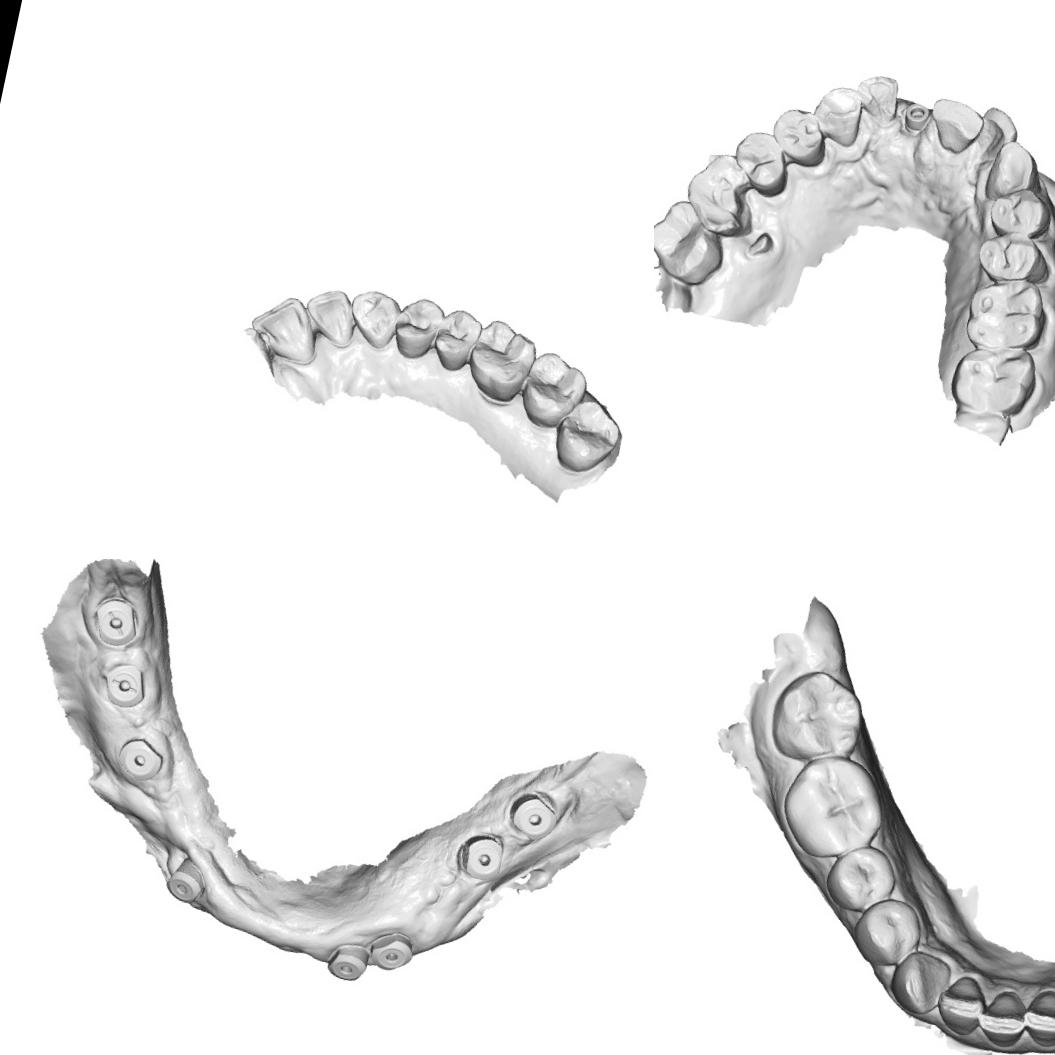canine: (981, 135, 1050, 210), (885, 946, 952, 1020), (342, 284, 405, 354), (808, 80, 868, 148)
implant: (105, 727, 170, 792), (503, 783, 560, 846), (450, 825, 508, 884), (158, 858, 210, 909), (368, 928, 419, 976), (324, 938, 373, 984), (900, 100, 932, 134)
implant_minus: (90, 652, 154, 716), (86, 590, 146, 654)
incisor: (242, 286, 327, 370), (296, 282, 364, 354), (922, 94, 988, 160), (932, 968, 989, 1040), (972, 983, 1030, 1050), (970, 103, 1024, 166), (850, 69, 904, 126), (1020, 985, 1055, 1052)
molar: (772, 748, 894, 870), (765, 662, 872, 770), (960, 268, 1052, 361), (946, 334, 1042, 422), (678, 147, 766, 242), (460, 314, 543, 410), (654, 193, 734, 291), (514, 346, 594, 436), (547, 392, 628, 480)
premolar: (848, 891, 932, 978), (821, 839, 901, 920), (972, 224, 1054, 294), (726, 126, 796, 201), (984, 182, 1055, 247), (386, 292, 448, 365), (766, 104, 834, 170), (427, 303, 486, 376)
